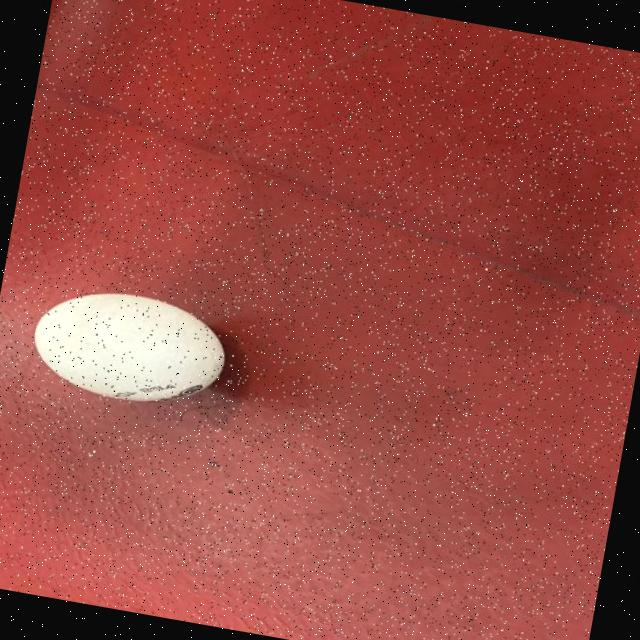ping-pong-ball: (19, 276, 241, 418)
